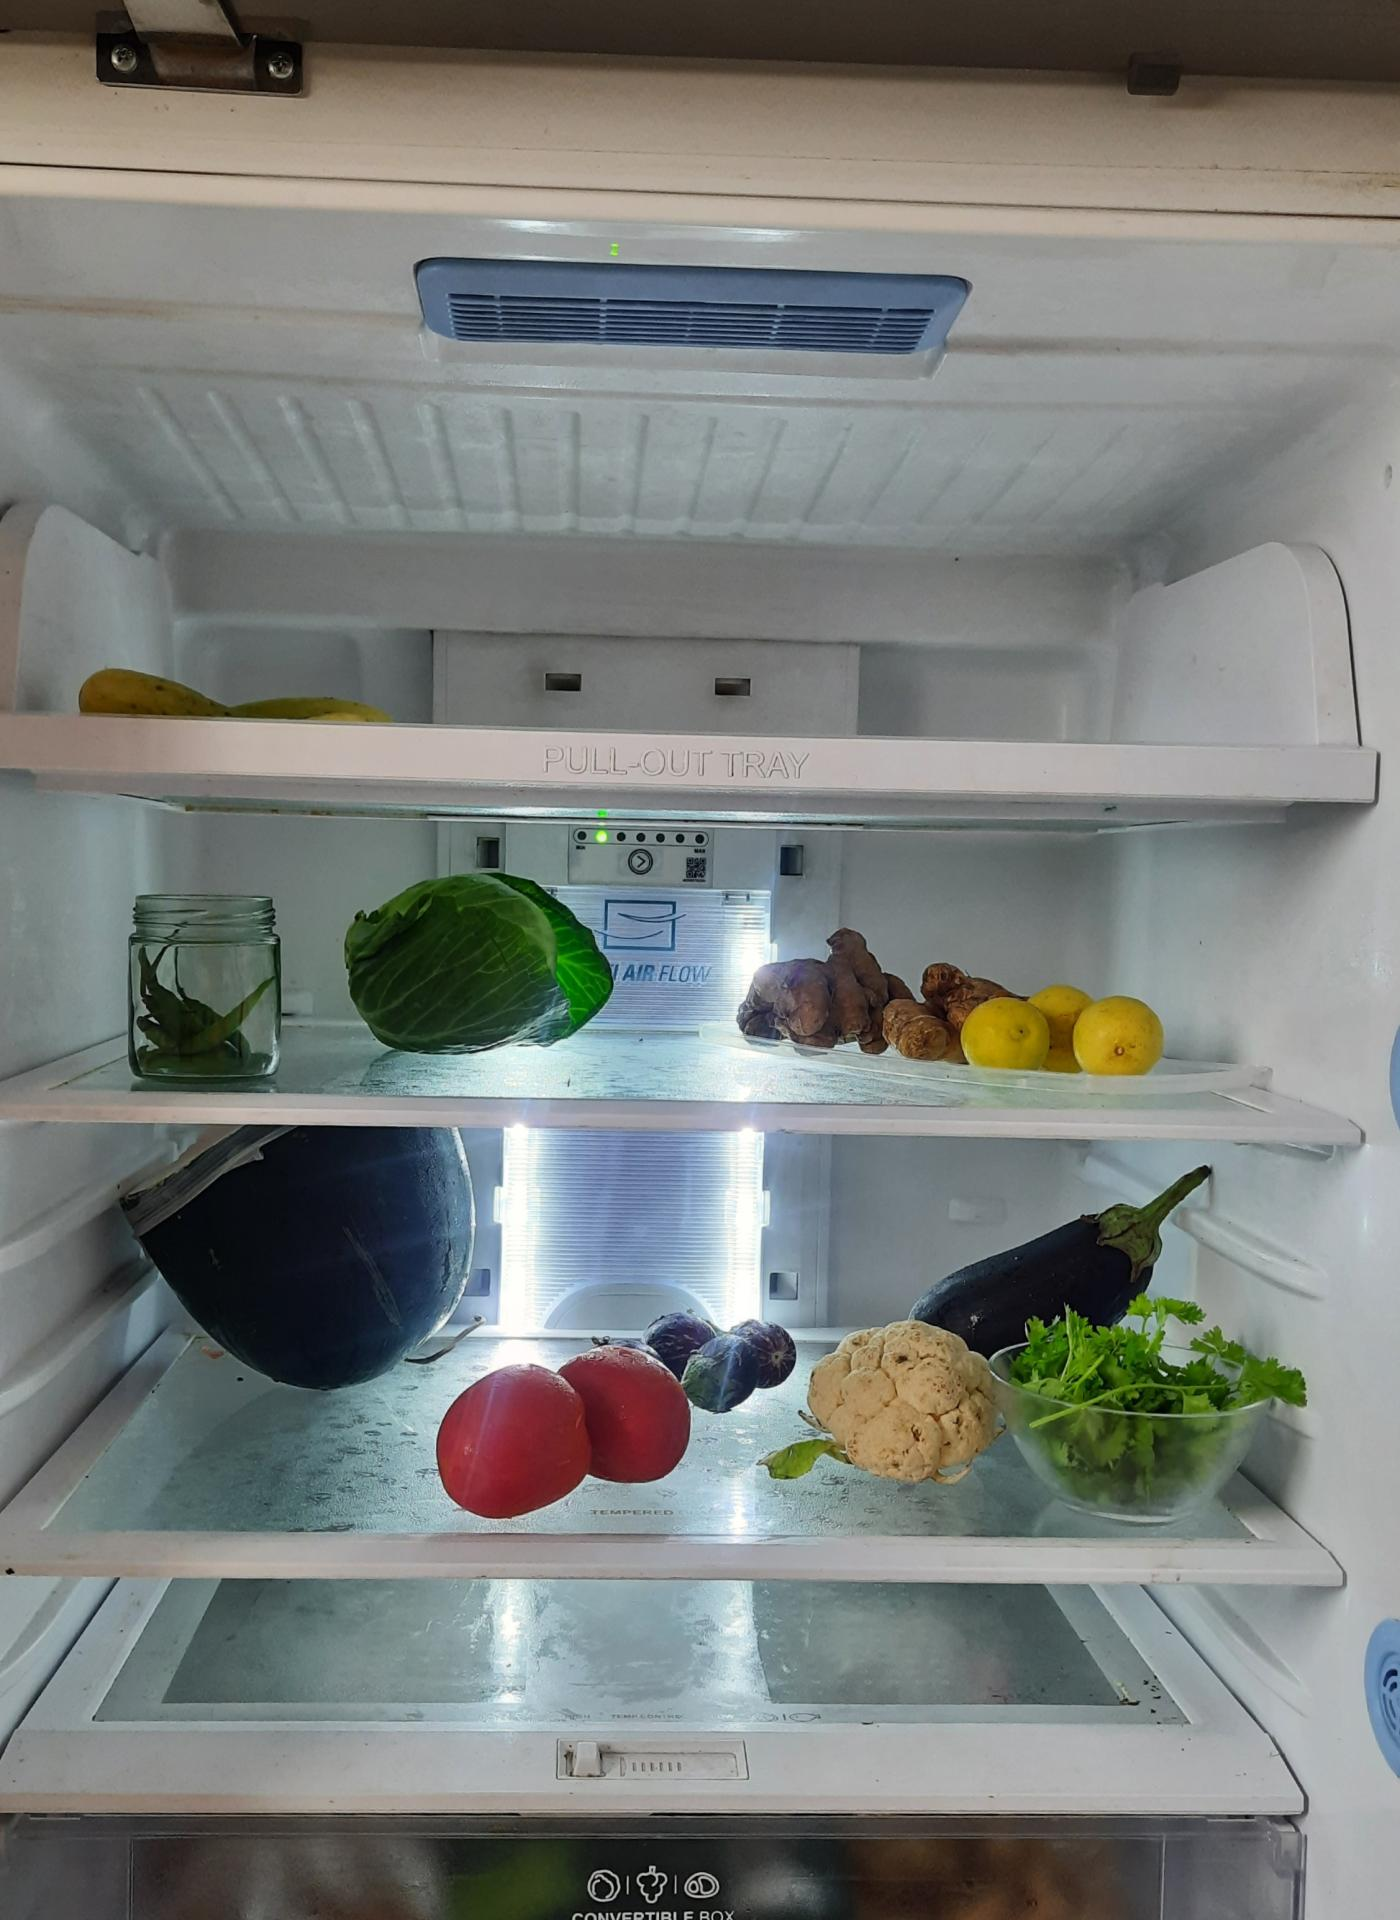brinjal: (912, 1172, 1217, 1342), (655, 1316, 792, 1409)
cabbage: (349, 866, 616, 1046)
cauliflower: (822, 1336, 1011, 1488)
chillies: (131, 905, 280, 1087)
coriander: (1029, 1316, 1305, 1518)
cucumber: (91, 656, 388, 723)
ginger: (747, 944, 944, 1058)
lemon: (971, 988, 1170, 1067)
tomato: (435, 1346, 684, 1506)
watermelon: (110, 1122, 483, 1383)
